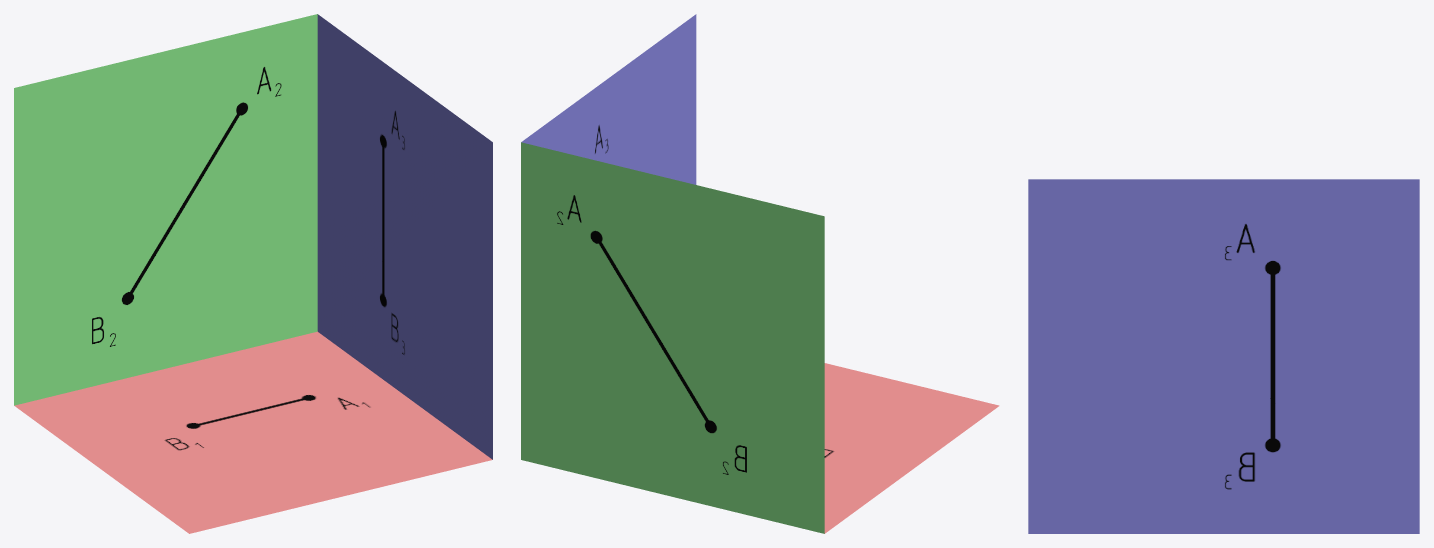
Rendered from var_3.glb.
3 renders of one model, left to right at view 1: azimuth 30°, elevation 25°; view 2: azimuth 150°, elevation 25°; view 3: azimuth 270°, elevation 25°, orthographic. The views are drawn at different scales.
Parts seen in each view (by area): view 1: p2, p3, p1; view 2: p2, p1, p3; view 3: p3.
Part boxes in pixels (bbox=[...]): p2: bbox=[14, 14, 317, 405]; p3: bbox=[317, 14, 492, 459]; p1: bbox=[14, 331, 492, 533]; p2: bbox=[521, 142, 824, 533]; p1: bbox=[824, 363, 999, 533]; p3: bbox=[521, 14, 696, 184]; p3: bbox=[1028, 179, 1419, 533].
Size of the model in its own units: 4 by 4 by 4.
Materials: 3 (3 with a texture image).
